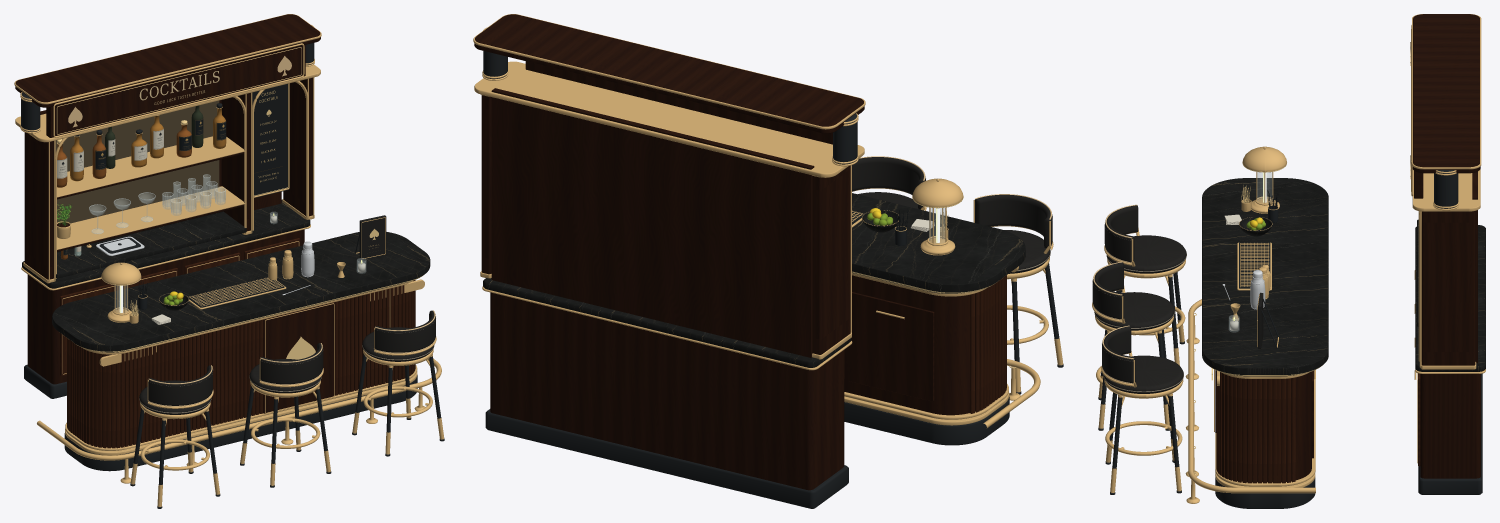
Rendered from casino_popup_bar.glb.
3 views of the same model, side by side, from view 1: azimuth 30°, elevation 25°; view 2: azimuth 150°, elevation 25°; view 3: azimuth 270°, elevation 25° (orthographic). The views are drawn at different scales.
Visible parts, largest first — view 1: Counter__marble_fluted_walnut_and_brass, Backbar__finished_cabinet_and_arched_display, Header_and_casino_menu, Stool_02, Stool_01, Stool_03, Cocktail_shakers_jiggers_and_drip_tray, Warm_brass_counter_lamp, Standing_cocktail_menu, Bartender_sink_and_brass_faucet, Napkins_straws_and_garnish_picks, Spirit_bottle_03 (+4 smaller); view 2: Backbar__finished_cabinet_and_arched_display, Counter__marble_fluted_walnut_and_brass, Header_and_casino_menu, Stool_01, Stool_02, Warm_brass_counter_lamp, Napkins_straws_and_garnish_picks; view 3: Counter__marble_fluted_walnut_and_brass, Backbar__finished_cabinet_and_arched_display, Header_and_casino_menu, Stool_03, Stool_01, Stool_02, Cocktail_shakers_jiggers_and_drip_tray, Warm_brass_counter_lamp, Napkins_straws_and_garnish_picks, Standing_cocktail_menu, Fresh_limes_in_marble_bowl.
Boxes of the visible parts, bbox=[...] form: Counter__marble_fluted_walnut_and_brass: bbox=[37, 232, 441, 483]; Backbar__finished_cabinet_and_arched_display: bbox=[21, 77, 314, 398]; Header_and_casino_menu: bbox=[14, 14, 321, 198]; Stool_02: bbox=[240, 343, 331, 487]; Stool_01: bbox=[130, 365, 220, 508]; Stool_03: bbox=[352, 310, 444, 456]; Cocktail_shakers_jiggers_and_drip_tray: bbox=[188, 241, 345, 309]; Warm_brass_counter_lamp: bbox=[101, 262, 141, 322]; Standing_cocktail_menu: bbox=[355, 215, 386, 259]; Bartender_sink_and_brass_faucet: bbox=[86, 236, 144, 255]; Napkins_straws_and_garnish_picks: bbox=[129, 281, 170, 324]; Spirit_bottle_03: bbox=[92, 129, 106, 178]; Backbar__finished_cabinet_and_arched_display: bbox=[480, 88, 852, 508]; Counter__marble_fluted_walnut_and_brass: bbox=[844, 193, 1040, 445]; Header_and_casino_menu: bbox=[473, 14, 865, 177]; Stool_01: bbox=[973, 194, 1063, 394]; Stool_02: bbox=[852, 156, 926, 210]; Warm_brass_counter_lamp: bbox=[912, 178, 963, 255]; Napkins_straws_and_garnish_picks: bbox=[894, 208, 948, 246]; Counter__marble_fluted_walnut_and_brass: bbox=[1185, 178, 1328, 508]; Backbar__finished_cabinet_and_arched_display: bbox=[1414, 171, 1485, 494]; Header_and_casino_menu: bbox=[1410, 14, 1481, 211]; Stool_03: bbox=[1101, 325, 1183, 494]; Stool_01: bbox=[1104, 204, 1186, 365]; Stool_02: bbox=[1092, 261, 1174, 430]; Cocktail_shakers_jiggers_and_drip_tray: bbox=[1222, 242, 1271, 320]; Warm_brass_counter_lamp: bbox=[1242, 146, 1286, 213]; Napkins_straws_and_garnish_picks: bbox=[1224, 185, 1278, 224]; Standing_cocktail_menu: bbox=[1257, 292, 1278, 348]; Fresh_limes_in_marble_bowl: bbox=[1239, 217, 1272, 236].
Size of the model in its own units: 3.26 by 2.6 by 2.75.
31 materials, 8 textured.
